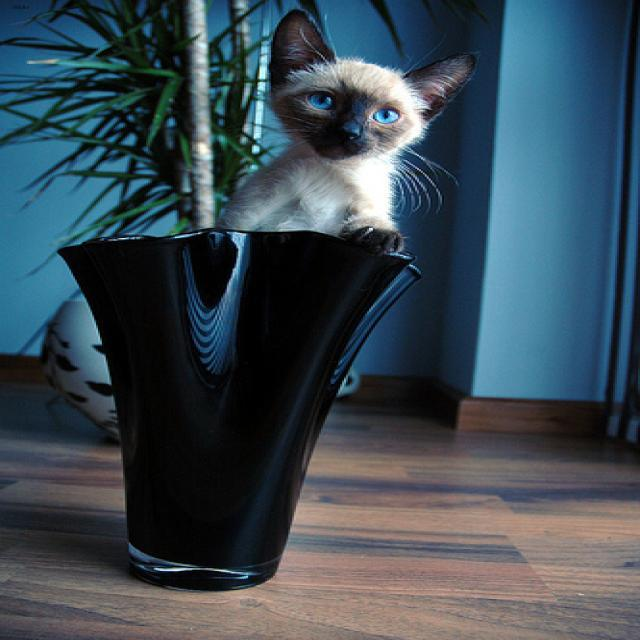Siamese: (267, 8, 475, 158)
